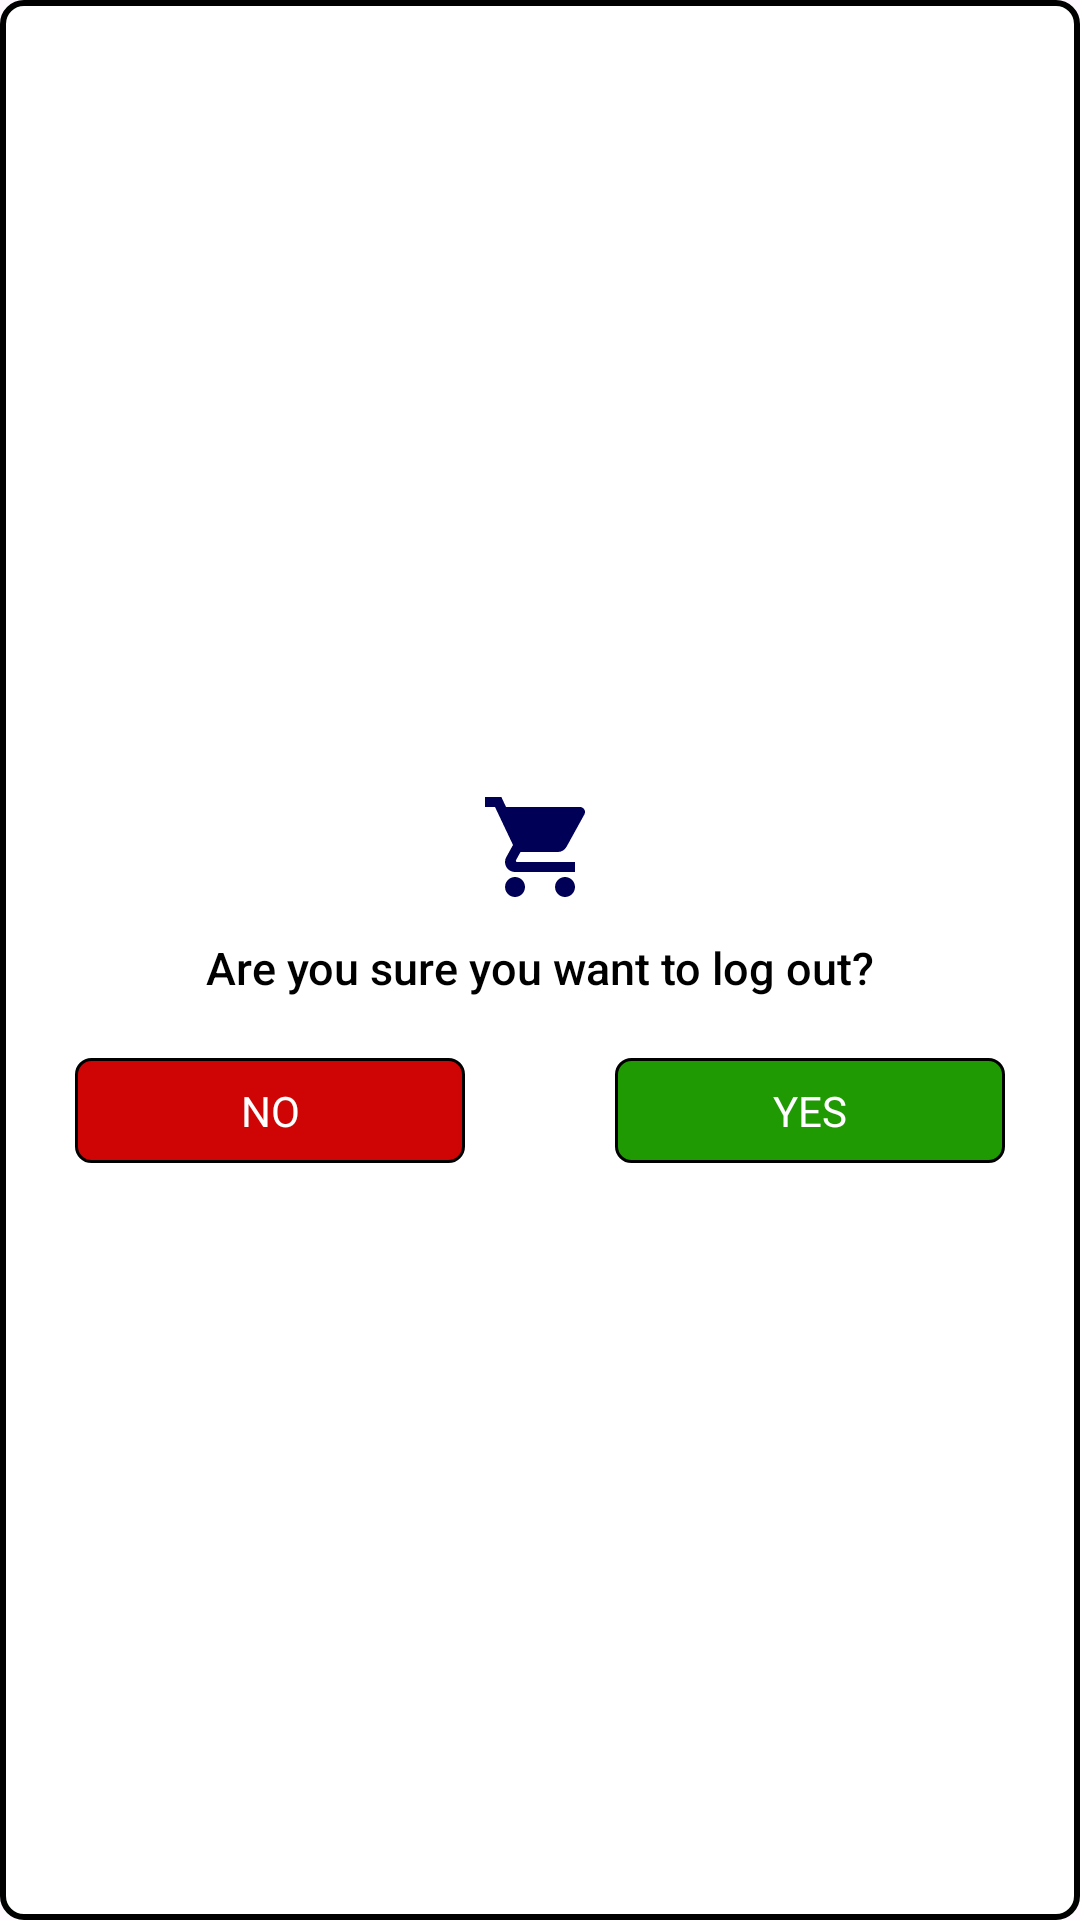

Icons on this 1080x1920 Android screen, each with its box as (x1, y1, x2, y2):
cart: (485, 797, 585, 897)
